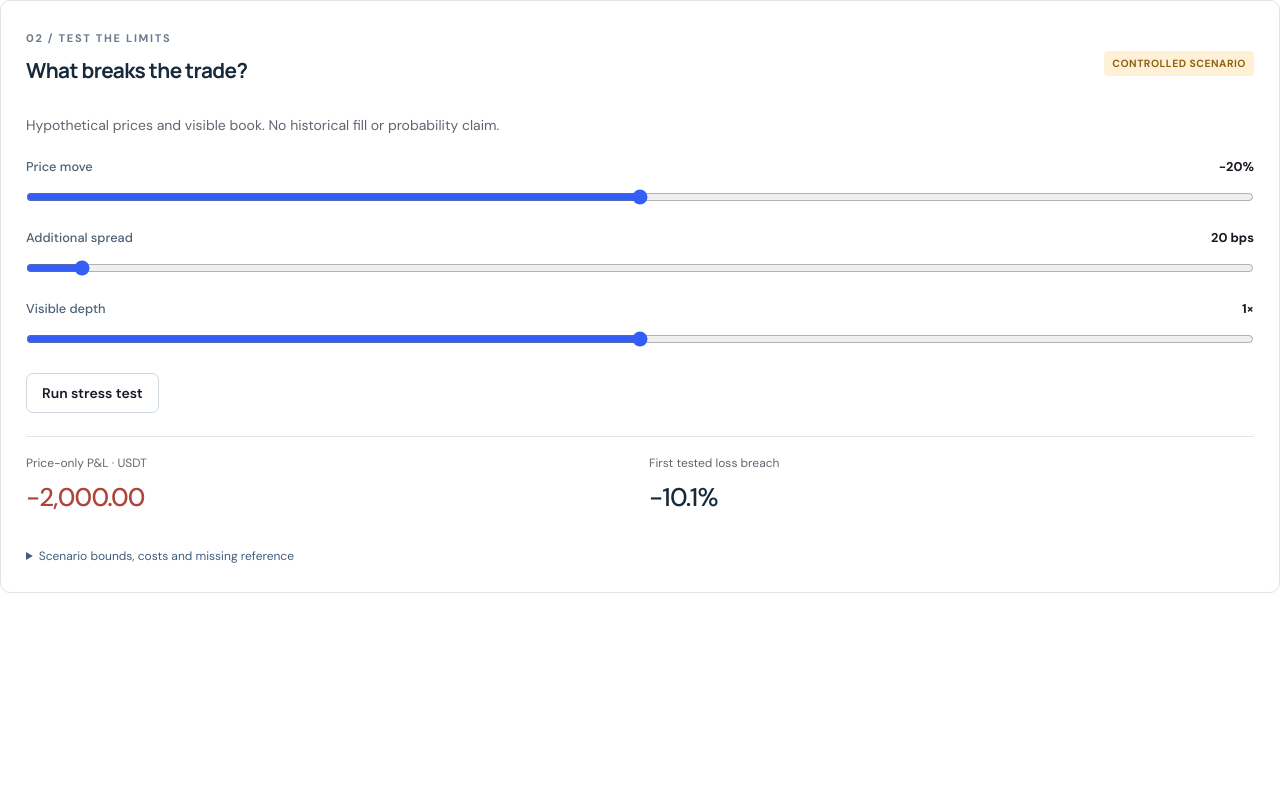
Scenario: saved scenario controls match the assessment and running it reports the result
Expected: the slider labelled "Price move -20%" holds "-20", top-left (26, 189), bottom-right (1254, 205)
Expected: the text "-2,000.00" is shown, top-left (26, 481), bottom-right (145, 514)
What coordinates should you click on to do the following:
click the button "Run stress test"
I would click on:
 (92, 393)
Its box is top-left (26, 373), bottom-right (159, 413).
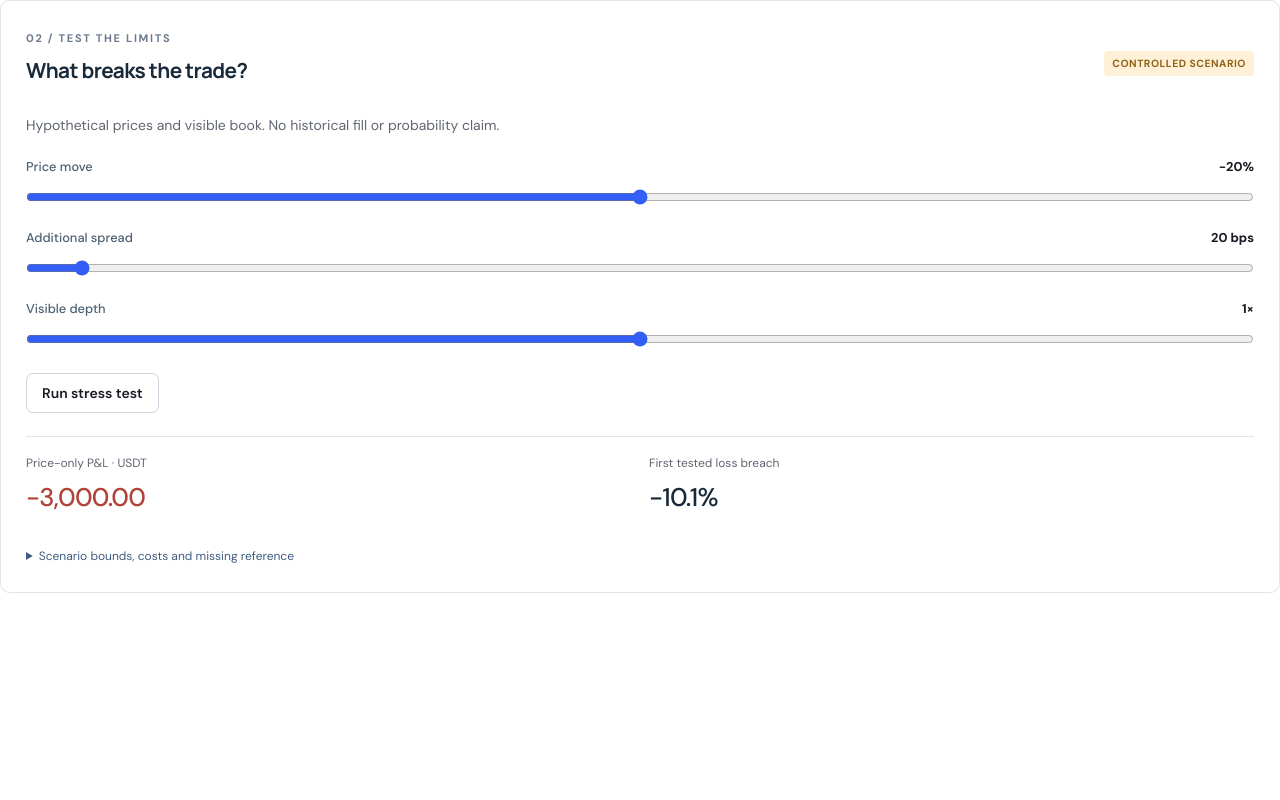
Expected: the text "-3,000.00" is shown, top-left (26, 481), bottom-right (145, 514)
